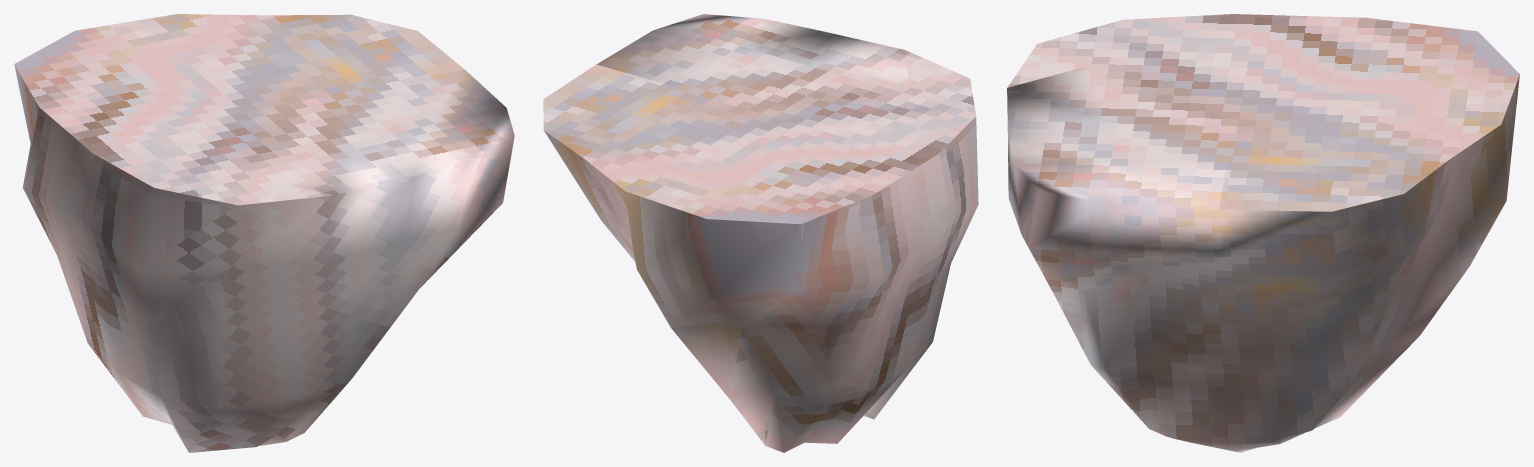
Rendered from flat_island_3.gltf.
3 renders of one model, left to right at view 1: azimuth 30°, elevation 25°; view 2: azimuth 150°, elevation 25°; view 3: azimuth 270°, elevation 25°, orthographic. The views are drawn at different scales.
Parts seen in each view (by area): view 1: Plane; view 2: Plane; view 3: Plane.
Boxes of the visible parts, x1,y1,x2,y2 form: Plane: [14, 14, 514, 452]; Plane: [543, 14, 978, 452]; Plane: [1007, 14, 1519, 452].
Size of the model in its own units: 3.47 by 2.83 by 3.68.
Materials: 1 (1 with a texture image).
